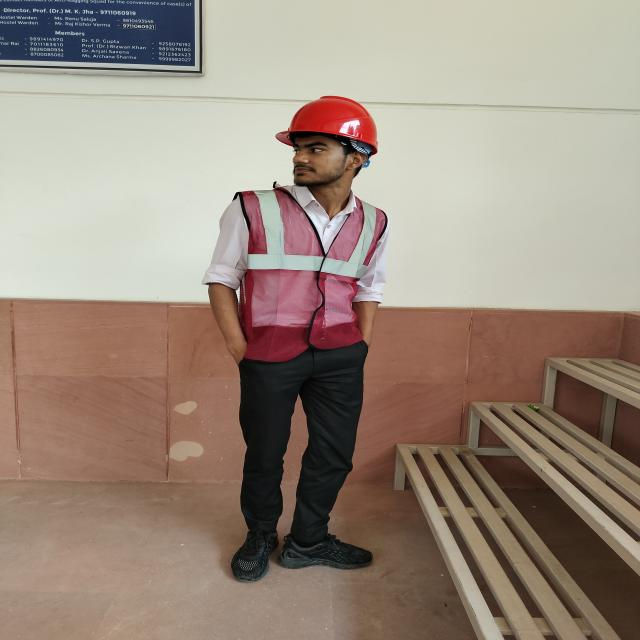safe: (207, 96, 388, 582)
